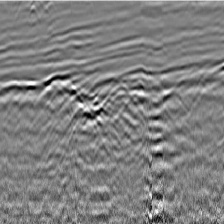cavities: (1, 71, 111, 135)
